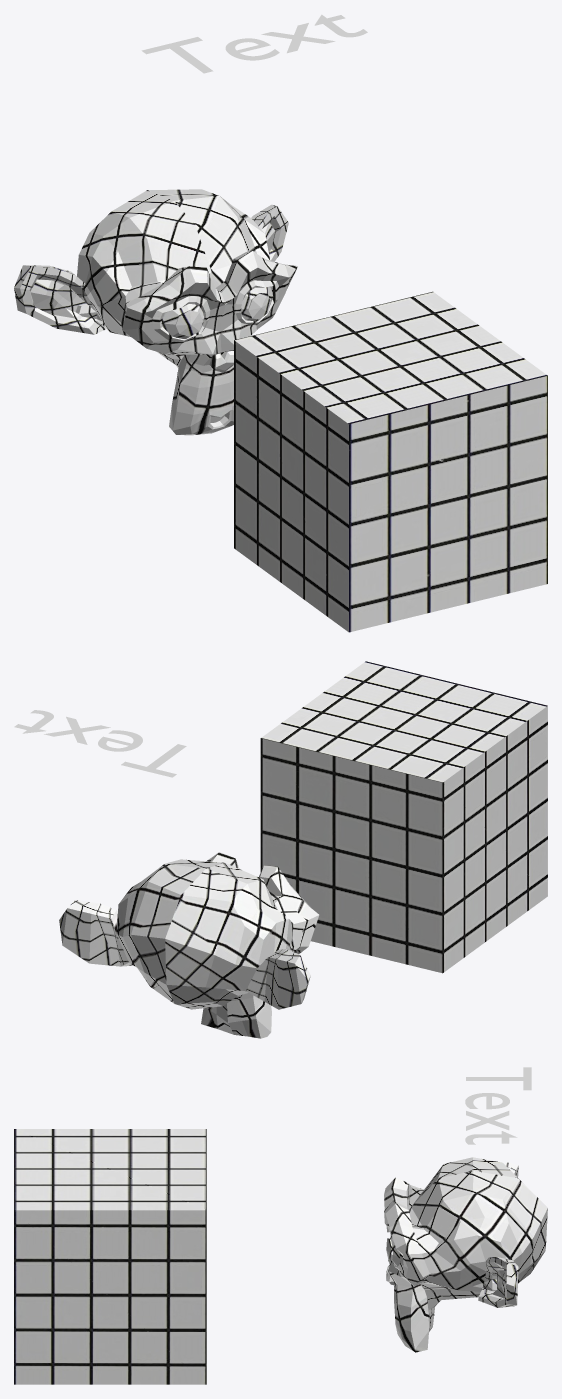
3 views of the same model, one above another, from view 1: azimuth 30°, elevation 25°; view 2: azimuth 150°, elevation 25°; view 3: azimuth 270°, elevation 25° (orthographic). The views are drawn at different scales.
Parts seen in each view (by area): view 1: Cube.001, Suzanne, Text; view 2: Cube.001, Suzanne, Text; view 3: Cube.001, Suzanne, Text.
Part boxes in pixels (x1,y1,x2,y2): Cube.001: (234,291,547,632); Suzanne: (14,189,297,435); Text: (141,14,367,73); Cube.001: (260,661,547,973); Suzanne: (59,852,319,1038); Text: (14,710,186,777); Cube.001: (14,1129,206,1384); Suzanne: (384,1157,547,1352); Text: (465,1067,531,1144).
Size of what is drawn, in the model's own units: 3.28 by 3.18 by 5.55.
Materials: 1 (1 with a texture image).
